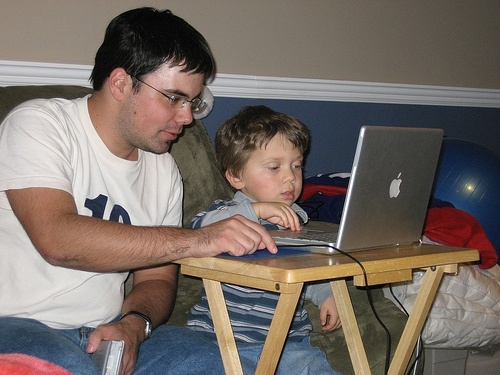head: (88, 3, 212, 159), (219, 101, 311, 211)
person: (5, 1, 281, 375), (190, 106, 309, 229)
